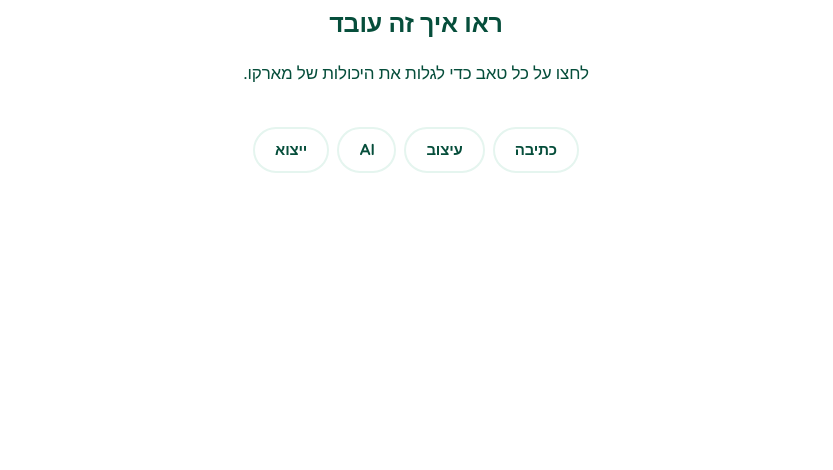
Scenario: TabbedDemos › renders tab content when a tab is clicked
This screenshot has width=833, height=470.
Step 1. Click the button "כתיבה" → (536, 150), box [493,127,579,173]
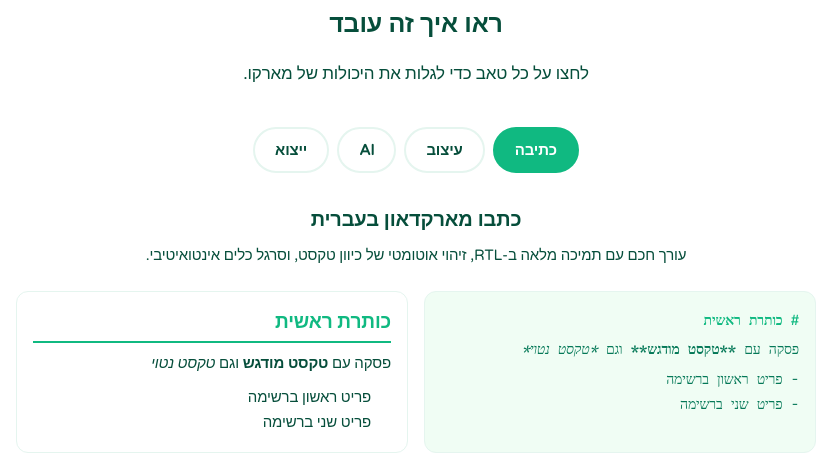
Expected: the element named "כתבו מארקדאון בעברית" is shown, [16,205,816,452]
Expected: the text "כתבו מארקדאון בעברית" is shown, [311,208,521,232]
